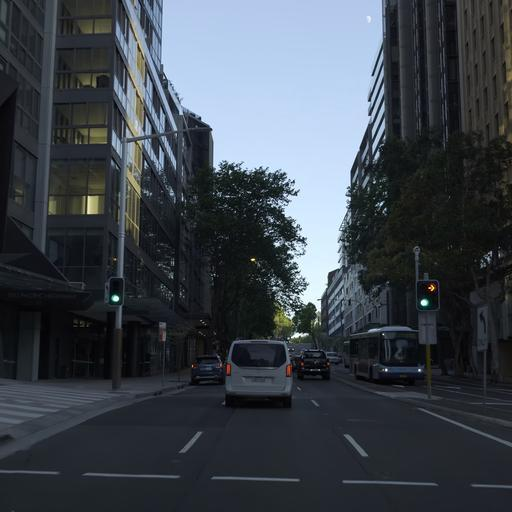Street light: (110, 123, 213, 390), (415, 278, 440, 311)
